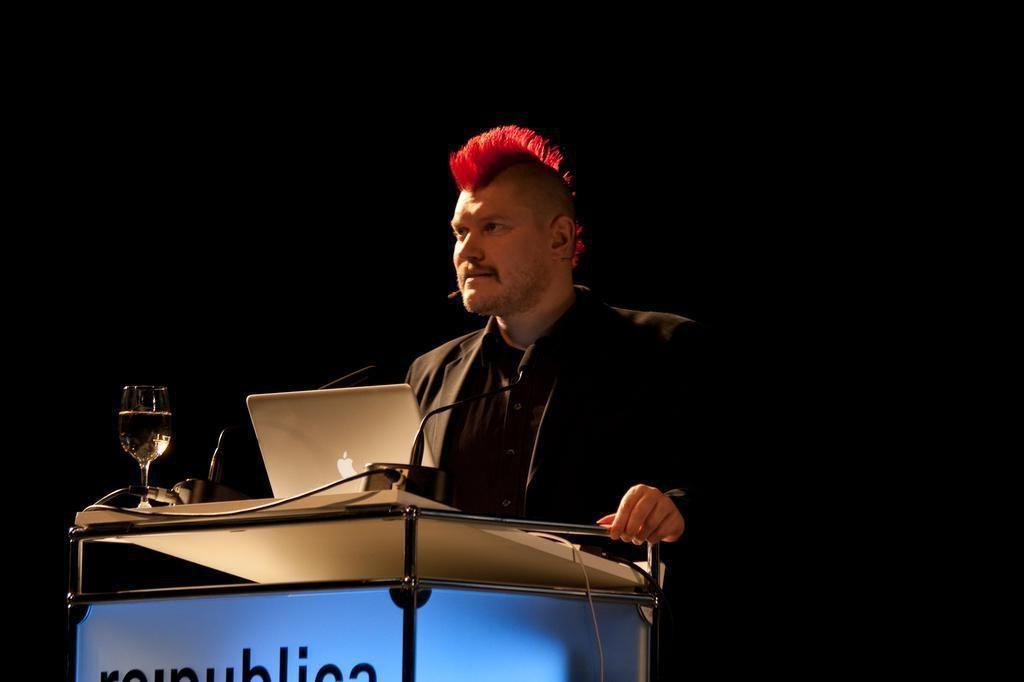glass-wine: (120, 383, 172, 511)
